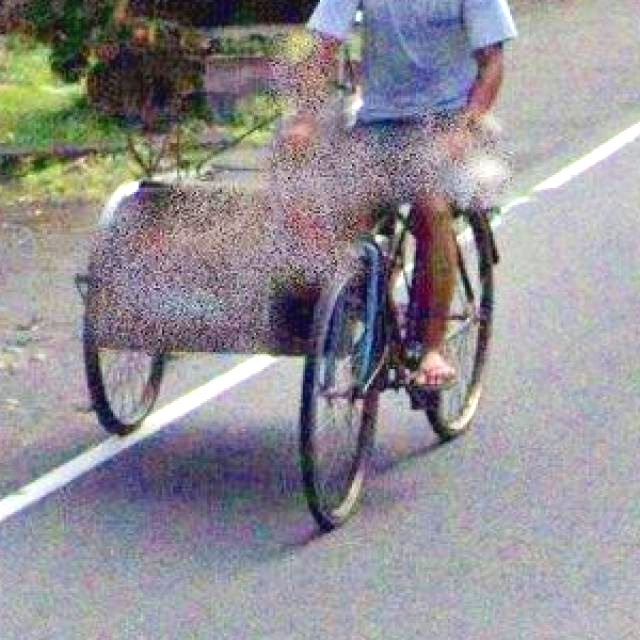bicycle: (30, 46, 562, 537)
